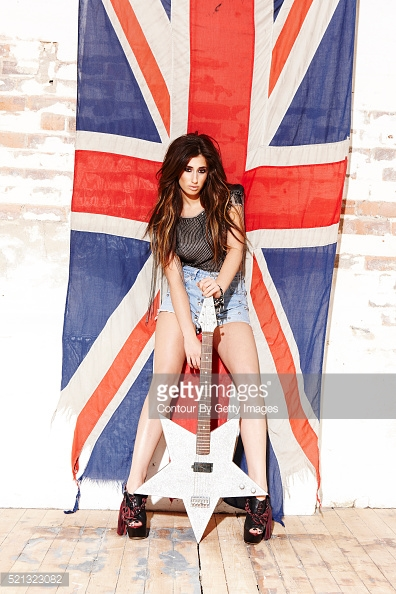em pe: (131, 135, 255, 458)
